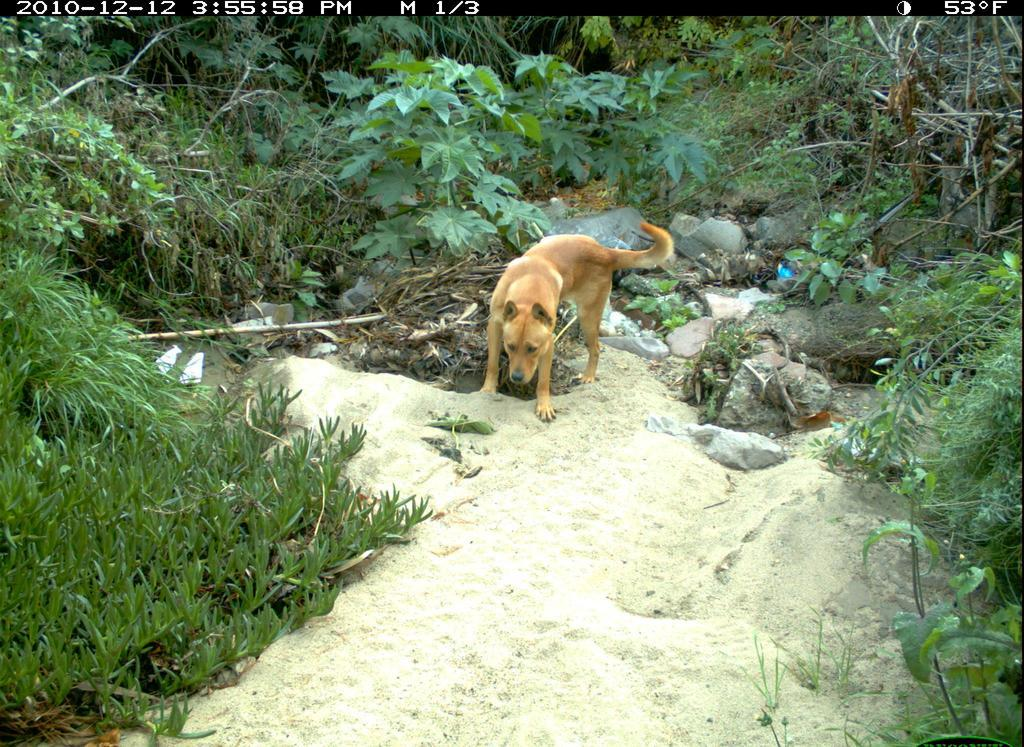dog: (474, 210, 678, 429)
